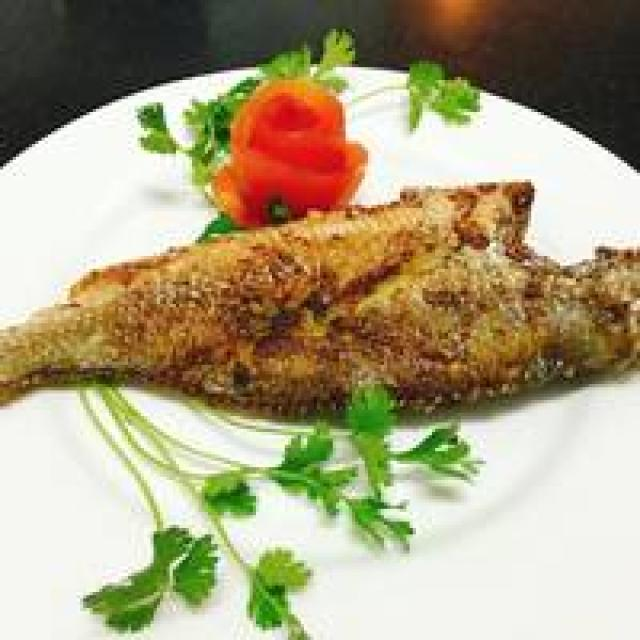ca chien: (0, 179, 637, 416)
rau ngo: (77, 374, 480, 637), (138, 29, 352, 240), (400, 61, 477, 131)
